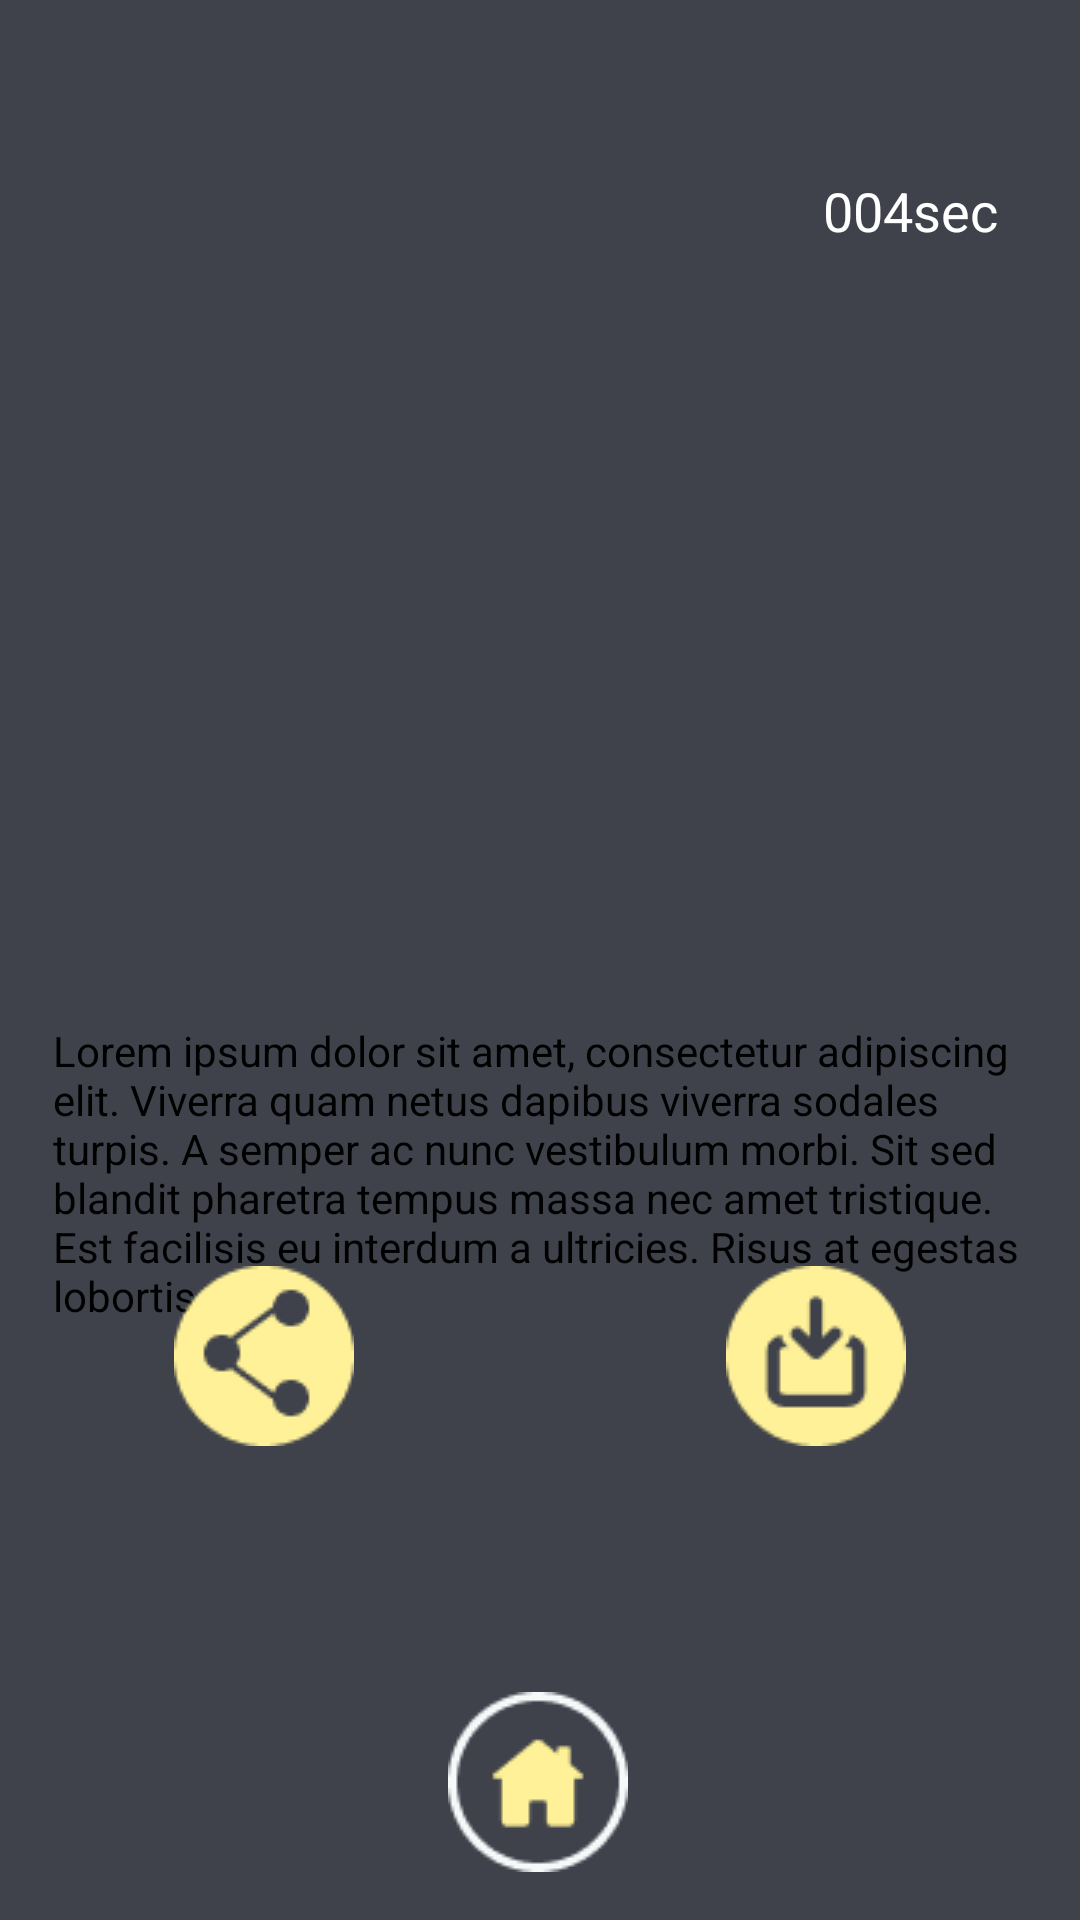

Icon click points for this 1080px x 1920px phone screenshot, format (x,y):
download: (816,1356)
home: (538,1782)
share: (246,1356)
